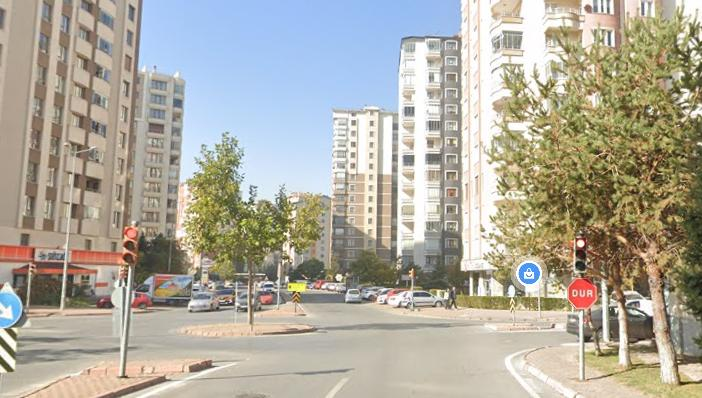redlight: (121, 226, 138, 266), (574, 235, 586, 272)
stop: (569, 278, 597, 310)
